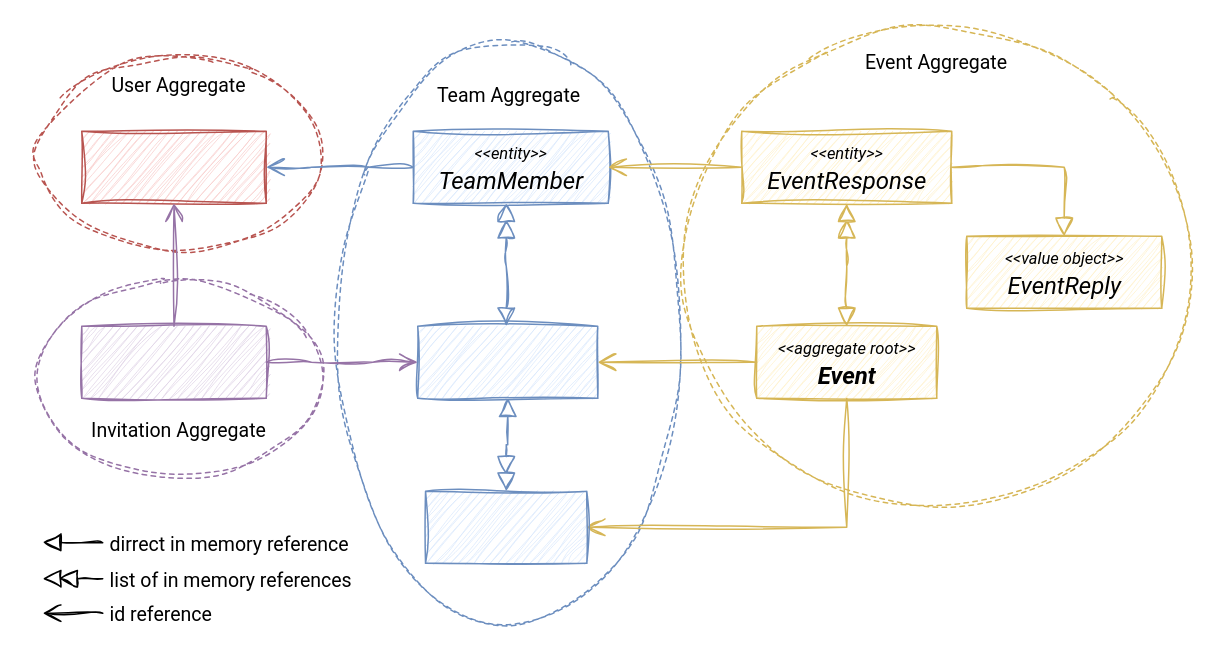
This 1218x659 diagram has some shape labels left out. The box of each missing label's shape, as (x1, y1, x2, y2) in pixels:
<<aggregate root>> Invitation: (80, 325, 266, 398)
<<aggregate root>> Team: (416, 325, 598, 398)
<<aggregate root>> User: (80, 130, 266, 203)
<<entity>> EventType: (424, 490, 587, 563)
